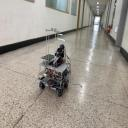cart: (38, 58, 71, 97)
